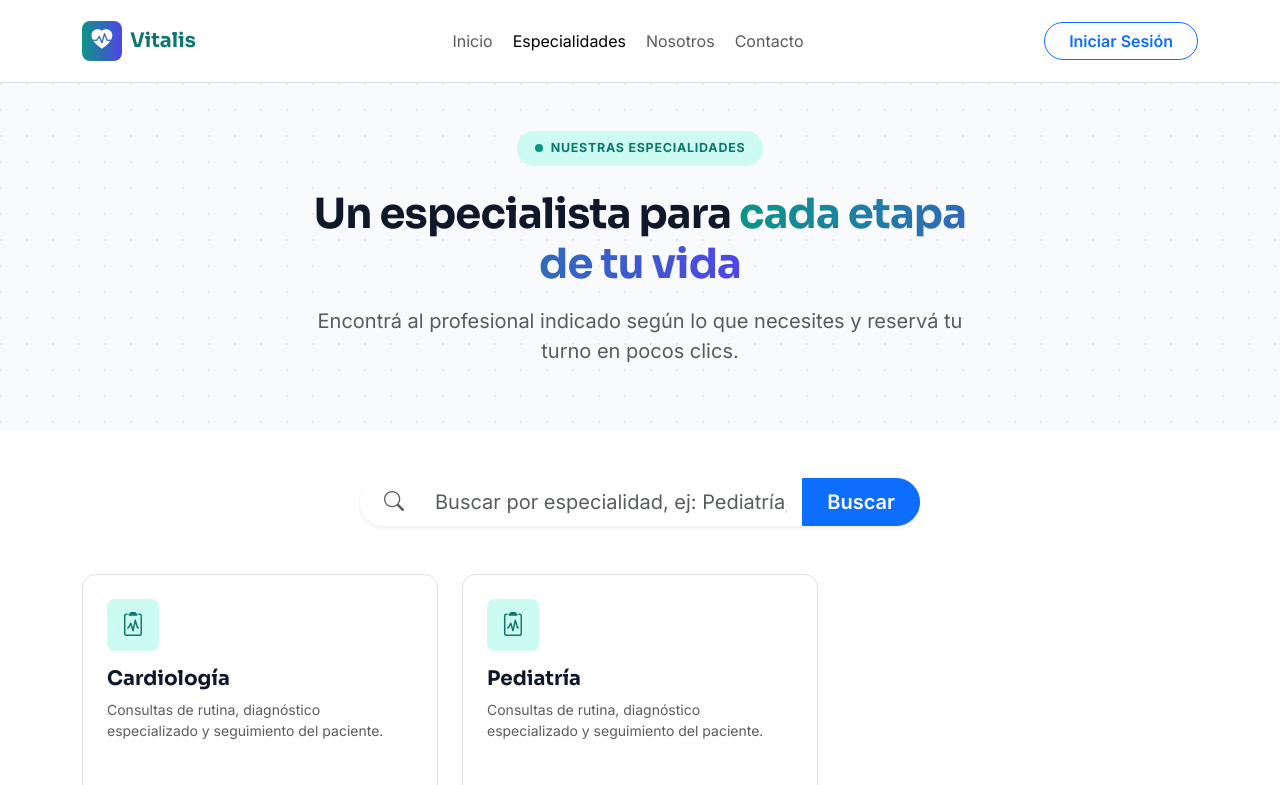
Test: páginas públicas › Especialidades filtra los resultados según la búsqueda
Expected: the heading "Cardiología" is shown, [107, 666, 230, 690]
Type "pedi" into the field with placeholder "Buscar por especialidad, ej: Pediatría, Cardiología..." at point(611, 502), box [419, 478, 803, 526]
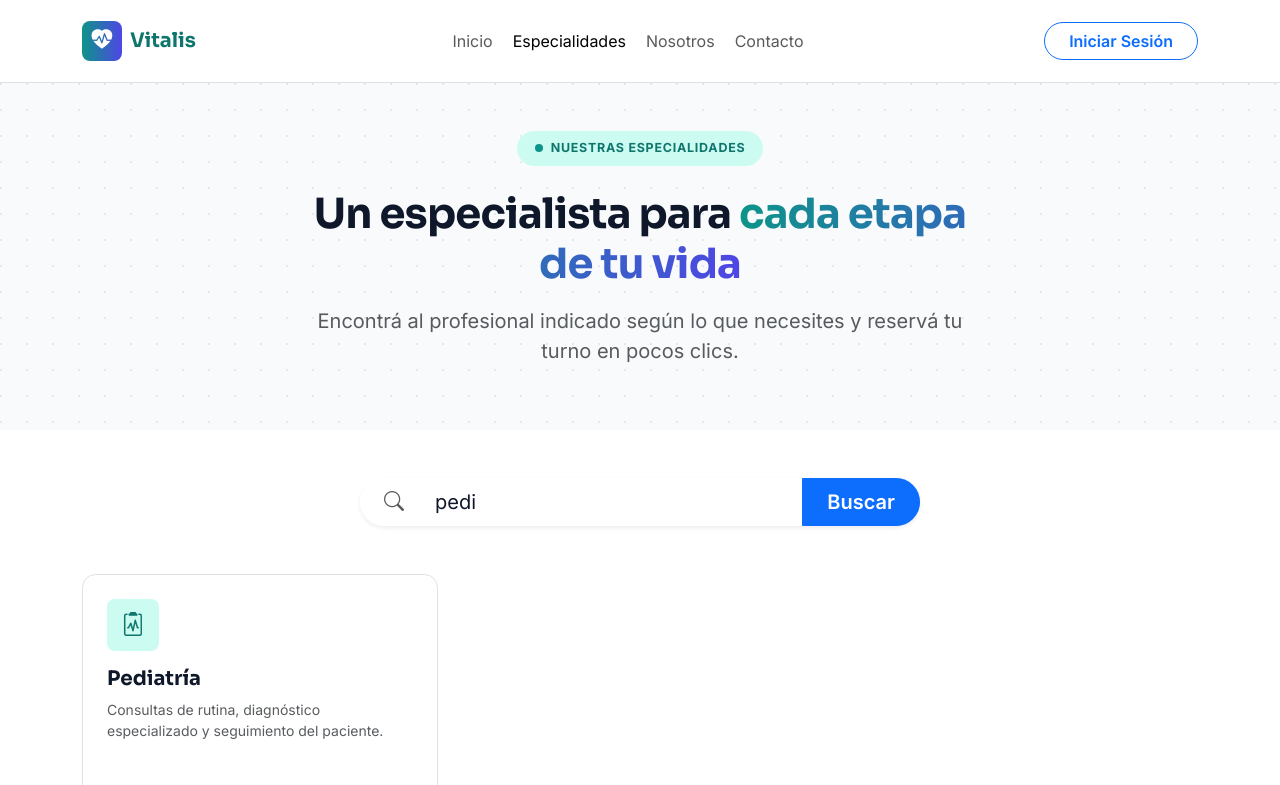
Expected: the heading "Pediatría" is shown, [107, 666, 201, 690]
Expected: the heading "Cardiología" is gone
